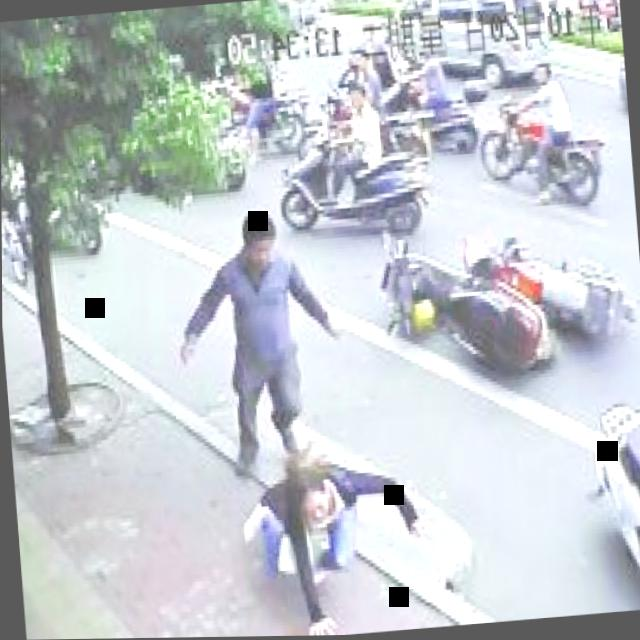Fall-Detected: (218, 400, 475, 637)
